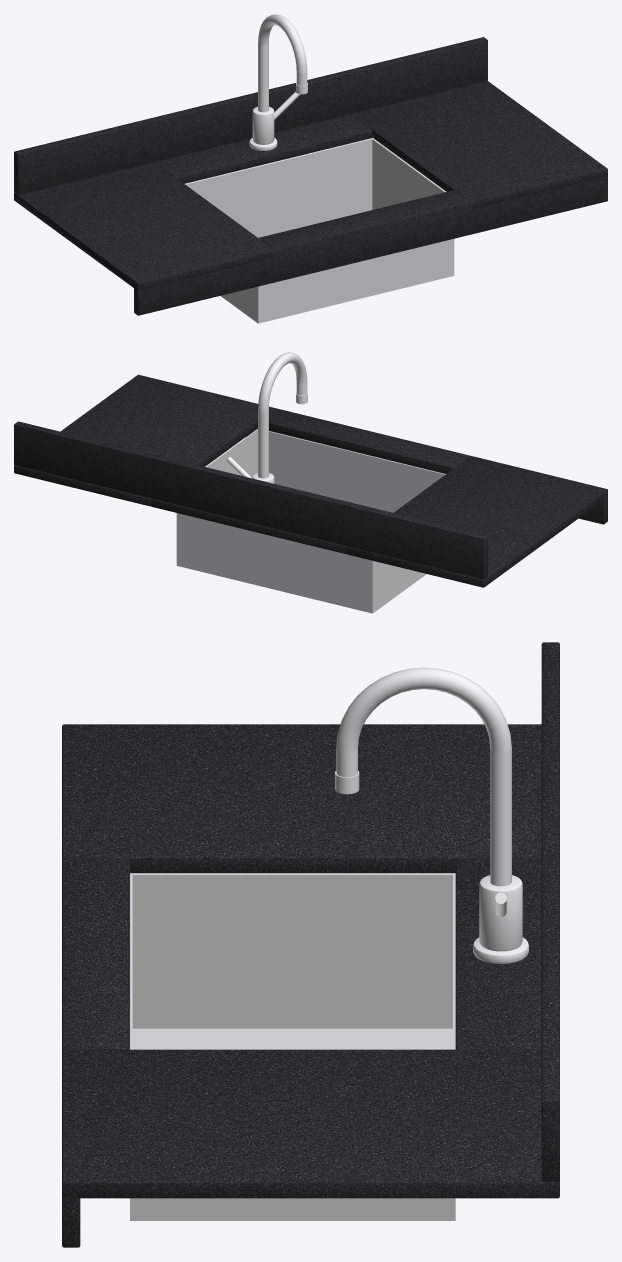
Rendered from HID-ACS-002.glb.
The picture shows the model from 3 angles, top to bottom: view 1: azimuth 30°, elevation 25°; view 2: azimuth 150°, elevation 25°; view 3: azimuth 270°, elevation 25°; orthographic projection. The views are drawn at different scales.
Visible parts, largest first — view 1: HID-ACS-002_rodabanca, HID-ACS-002_tampo_e, HID-ACS-002_tampo_d, HID-ACS-002_saia, HID-ACS-002_cuba_y1, HID-ACS-002_cuba_y-1, HID-ACS-002_tampo_t, HID-ACS-002_tampo_f, HID-ACS-002_cuba_x1, HID-ACS-002_t_bica, HID-ACS-002_cuba_x-1, HID-ACS-002_t_corpo (+1 smaller); view 2: HID-ACS-002_rodabanca, HID-ACS-002_tampo_e, HID-ACS-002_tampo_d, HID-ACS-002_cuba_y1, HID-ACS-002_cuba_y-1, HID-ACS-002_tampo_f, HID-ACS-002_tampo_t, HID-ACS-002_cuba_x-1, HID-ACS-002_cuba_x1, HID-ACS-002_t_bica, HID-ACS-002_t_tubo, HID-ACS-002_saia (+1 smaller); view 3: HID-ACS-002_tampo_d, HID-ACS-002_tampo_e, HID-ACS-002_cuba_x-1, HID-ACS-002_tampo_f, HID-ACS-002_tampo_t, HID-ACS-002_rodabanca, HID-ACS-002_cuba_x1, HID-ACS-002_cuba_fundo, HID-ACS-002_t_bica, HID-ACS-002_t_tubo, HID-ACS-002_t_corpo, HID-ACS-002_saia (+1 smaller).
Boxes of the visible parts, x1,y1,x2,y2 form: HID-ACS-002_rodabanca: (14,37,487,194); HID-ACS-002_tampo_e: (14,162,274,290); HID-ACS-002_tampo_d: (350,81,607,209); HID-ACS-002_saia: (134,176,607,315); HID-ACS-002_cuba_y1: (185,138,372,237); HID-ACS-002_cuba_y-1: (259,239,452,321); HID-ACS-002_tampo_t: (155,114,372,183); HID-ACS-002_tampo_f: (259,190,469,249); HID-ACS-002_cuba_x1: (372,139,454,274); HID-ACS-002_t_bica: (258,14,307,73); HID-ACS-002_cuba_x-1: (220,286,259,322); HID-ACS-002_t_corpo: (252,106,274,144); HID-ACS-002_rodabanca: (14,421,487,579); HID-ACS-002_tampo_e: (347,456,607,587); HID-ACS-002_tampo_d: (14,374,273,506); HID-ACS-002_cuba_y1: (178,513,373,612); HID-ACS-002_cuba_y-1: (269,431,445,512); HID-ACS-002_tampo_f: (269,408,469,473); HID-ACS-002_tampo_t: (151,498,347,554); HID-ACS-002_cuba_x-1: (371,560,426,613); HID-ACS-002_cuba_x1: (176,429,257,565); HID-ACS-002_t_bica: (258,352,307,411); HID-ACS-002_t_tubo: (258,410,268,478); HID-ACS-002_saia: (246,408,607,524); HID-ACS-002_tampo_d: (62,1049,559,1198); HID-ACS-002_tampo_e: (62,724,541,873); HID-ACS-002_cuba_x-1: (132,874,452,1028); HID-ACS-002_tampo_f: (62,858,129,1049); HID-ACS-002_tampo_t: (455,858,541,1049); HID-ACS-002_rodabanca: (541,642,559,1181); HID-ACS-002_cuba_x1: (130,1198,455,1220); HID-ACS-002_cuba_fundo: (132,1028,452,1049); HID-ACS-002_t_bica: (336,667,511,752); HID-ACS-002_t_tubo: (490,748,511,886); HID-ACS-002_t_corpo: (479,875,522,951); HID-ACS-002_saia: (62,857,80,1247).
Bounding box in the file's own units: 1.2 × 0.557 × 0.55.
Materials: 3 (1 with a texture image).
